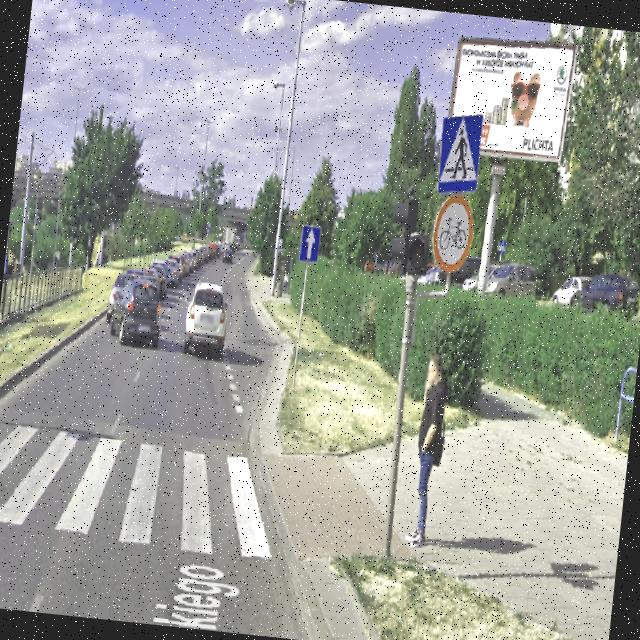Przejscie dla pieszych: (436, 113, 484, 191)
